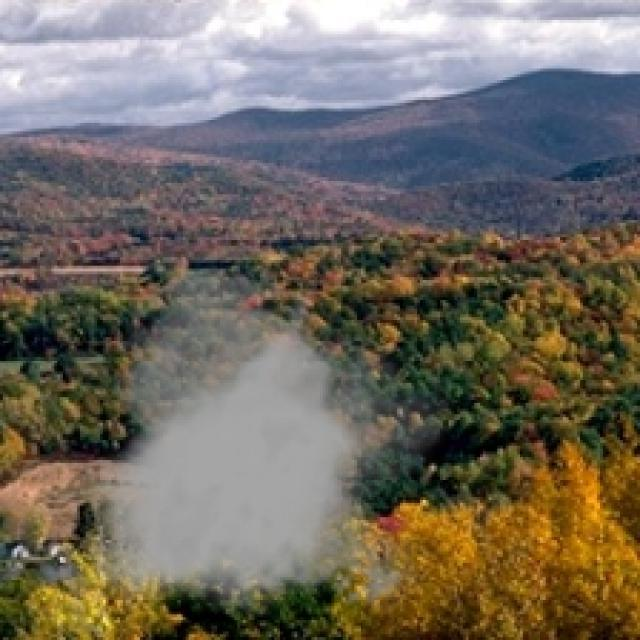Smoke: (80, 262, 446, 618)
